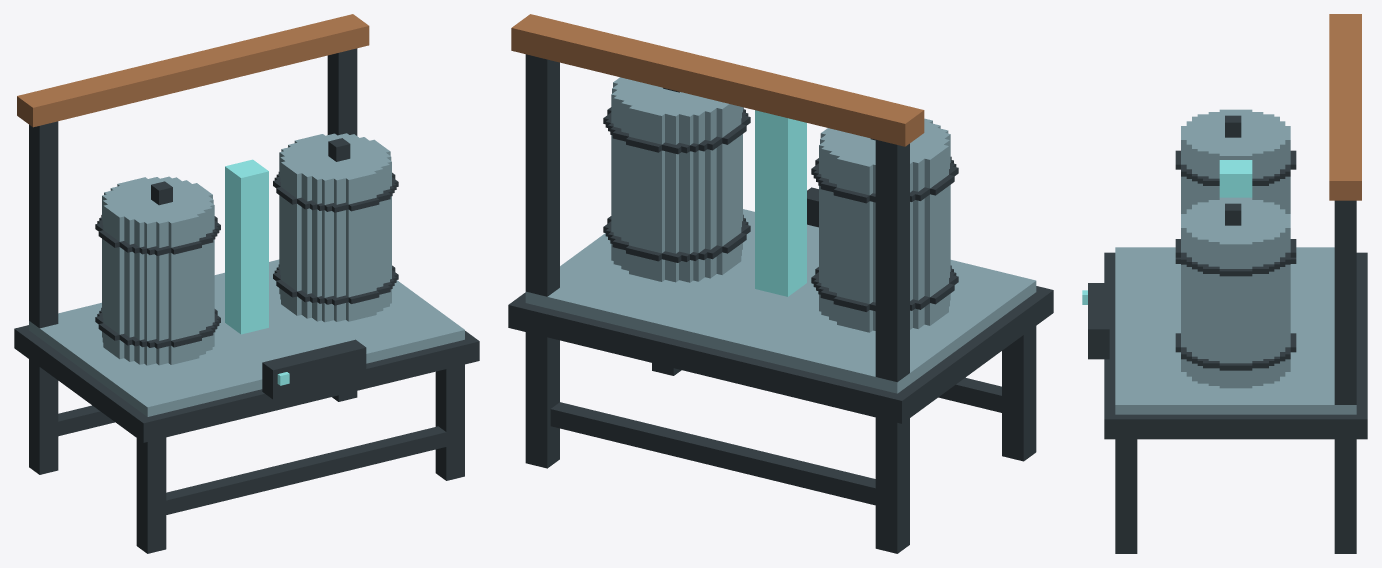
Rendered from arcane_engineering_station_t6.glb.
3 views of the same model, side by side, from view 1: azimuth 30°, elevation 25°; view 2: azimuth 150°, elevation 25°; view 3: azimuth 270°, elevation 25° (orthographic). The views are drawn at different scales.
Visible parts, largest first — view 1: arcane_engineering_station_t6/work_surface, arcane_engineering_station_t6/frame, arcane_engineering_station_t6/work_surface_lid_0, arcane_engineering_station_t6/work_surface_lid_1; view 2: arcane_engineering_station_t6/work_surface, arcane_engineering_station_t6/frame, arcane_engineering_station_t6/work_surface_lid_1, arcane_engineering_station_t6/work_surface_lid_0; view 3: arcane_engineering_station_t6/work_surface, arcane_engineering_station_t6/frame, arcane_engineering_station_t6/work_surface_lid_1, arcane_engineering_station_t6/work_surface_lid_0.
Boxes of the visible parts, x1,y1,x2,y2 form: arcane_engineering_station_t6/work_surface: [17, 14, 464, 416]; arcane_engineering_station_t6/frame: [14, 325, 479, 553]; arcane_engineering_station_t6/work_surface_lid_0: [102, 176, 214, 228]; arcane_engineering_station_t6/work_surface_lid_1: [279, 133, 391, 185]; arcane_engineering_station_t6/work_surface: [511, 14, 1036, 393]; arcane_engineering_station_t6/frame: [508, 286, 1053, 553]; arcane_engineering_station_t6/work_surface_lid_1: [611, 77, 734, 122]; arcane_engineering_station_t6/work_surface_lid_0: [819, 118, 950, 172]; arcane_engineering_station_t6/work_surface: [1082, 14, 1361, 414]; arcane_engineering_station_t6/frame: [1104, 252, 1367, 553]; arcane_engineering_station_t6/work_surface_lid_1: [1181, 197, 1290, 248]; arcane_engineering_station_t6/work_surface_lid_0: [1181, 109, 1290, 159].
Bounding box in the file's own units: 2.25 × 2.38 × 1.62.
